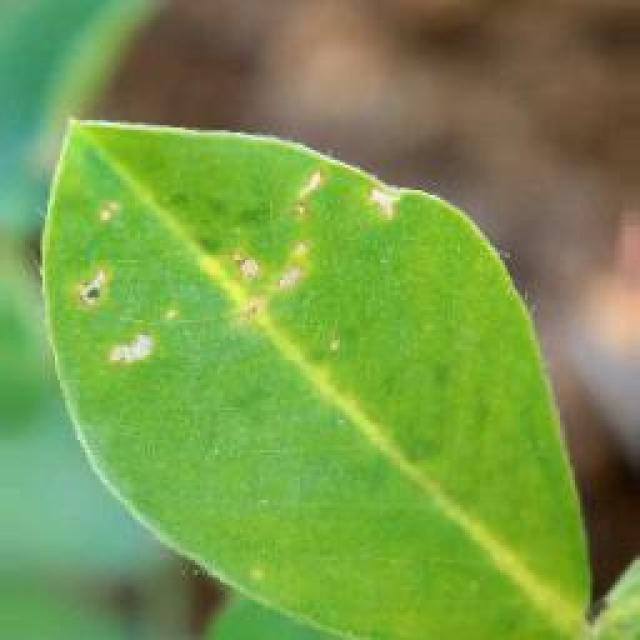Yellow_and_black_sigatoka: (41, 105, 594, 640)
